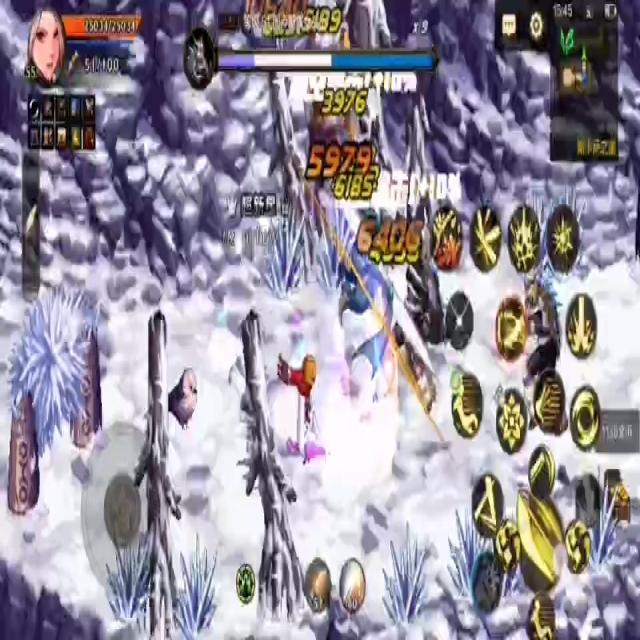player: (264, 346, 318, 464)
